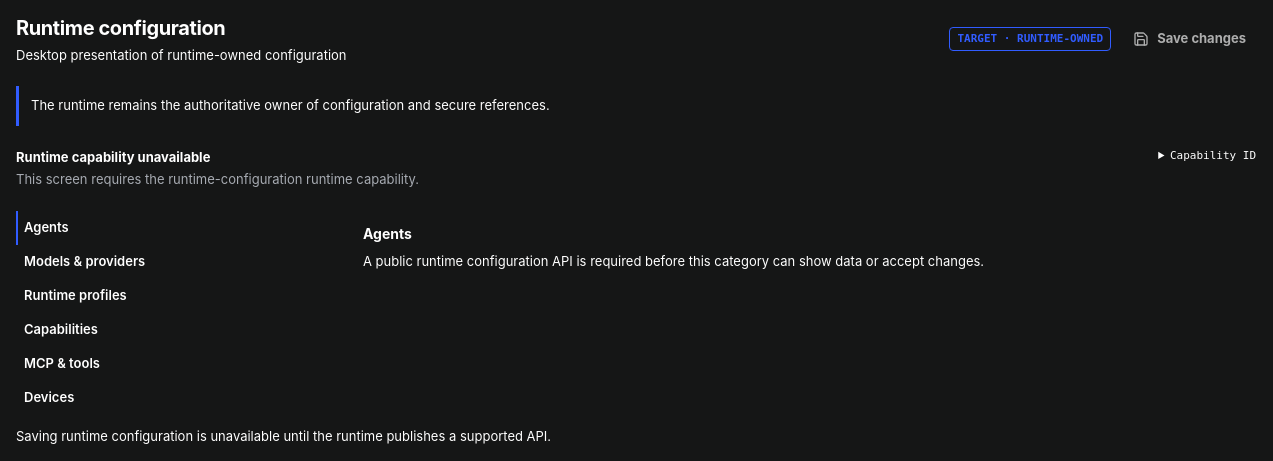
Test case: runtime configuration page › keeps unavailable runtime categories as local presentation only
This screenshot has width=1273, height=461.
Check: the message that starts with "Runtime capability unavailable" is shown, box [16,148,210,164]
Check: the button named "save-runtime-configuration" is disabled, box [1123,23,1256,55]
Click the tab "Models & providers" at (85, 261), box [16,245,351,279]
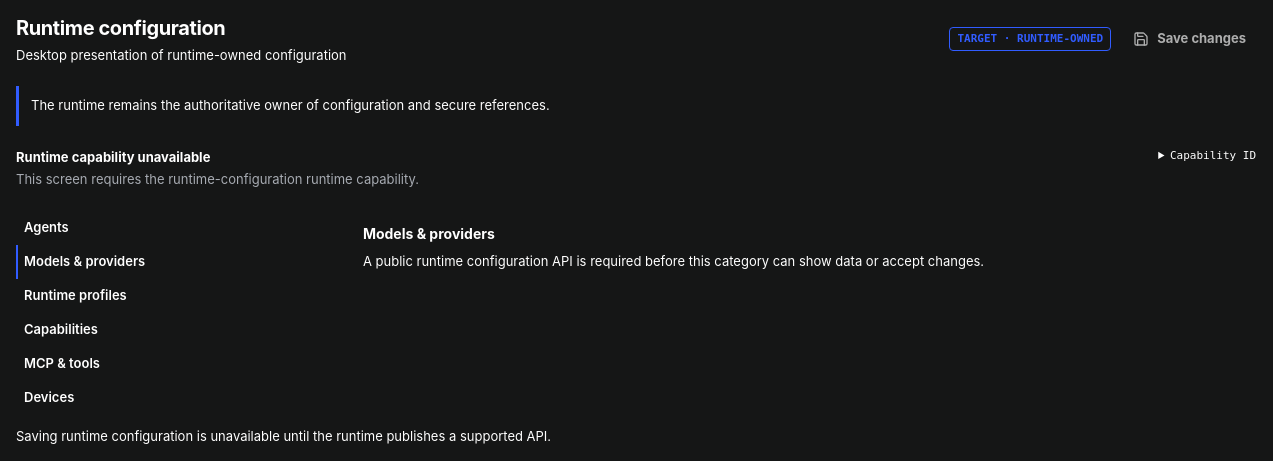
Check: the panel shows "Models & providers", box [363,225,495,242]
